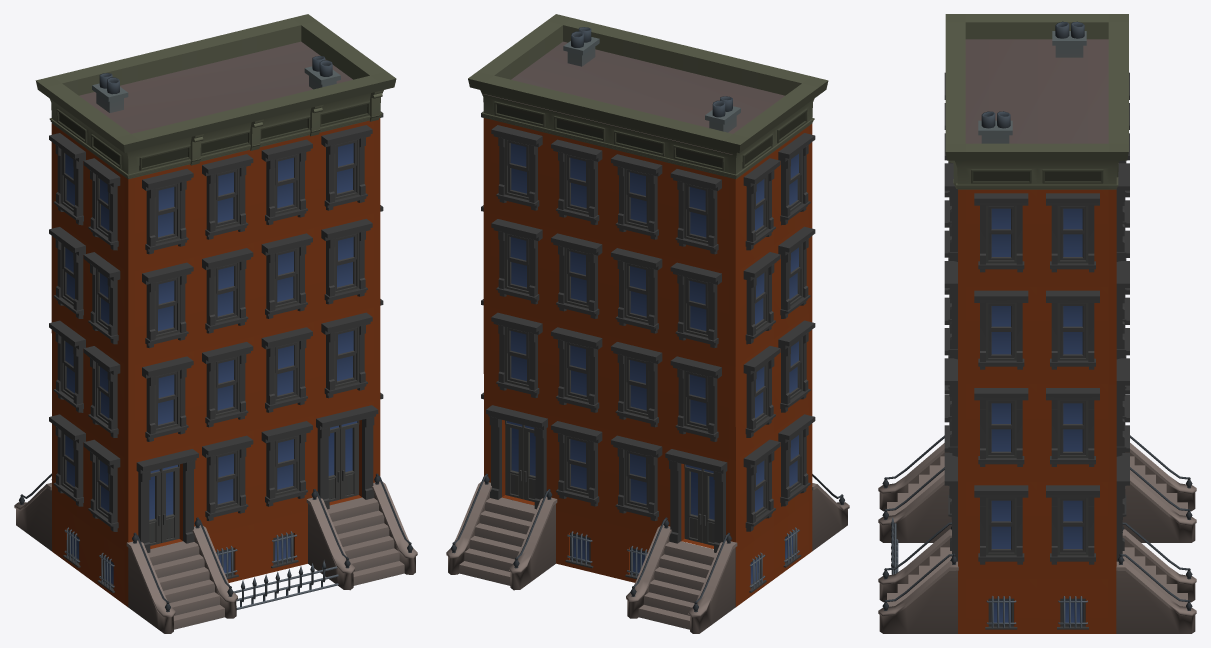
Rendered from NewYork_OPT.fbx.
The picture shows the model from 3 angles, left to right: view 1: azimuth 30°, elevation 25°; view 2: azimuth 150°, elevation 25°; view 3: azimuth 270°, elevation 25°; orthographic projection. The views are drawn at different scales.
Visible parts, largest first — view 1: Plane.3625, Plane.3649, Plane.3648, Plane.3653, Plane.3654, Plane.3670, Plane.3618, Plane.3619, Plane.3671, Plane.3697, Plane.3696, Plane.3617 (+32 smaller); view 2: Plane.3625, Plane.3665, Plane.3648, Plane.3664, Plane.3663, Plane.3678, Plane.3638, Plane.3646, Plane.3703, Plane.3704, Plane.3677, Plane.3680 (+29 smaller); view 3: Plane.3625, Plane.3648, Plane.3661, Plane.3631, Plane.3656, Plane.3674, Plane.3700, Plane.3630, Plane.3655, Plane.3673, Plane.3699, Plane.3663 (+21 smaller).
Part boxes in pixels (box(x1,y1,x2,y2)): Plane.3625: box(45, 18, 386, 175); Plane.3649: box(134, 401, 378, 552); Plane.3648: box(79, 41, 352, 133); Plane.3653: box(126, 517, 237, 633); Plane.3654: box(306, 473, 417, 590); Plane.3670: box(194, 242, 254, 350); Plane.3618: box(194, 336, 254, 444); Plane.3619: box(134, 351, 194, 458); Plane.3671: box(134, 257, 194, 365); Plane.3697: box(134, 164, 194, 271); Plane.3696: box(194, 150, 254, 256); Plane.3617: box(254, 321, 313, 429); Plane.3625: box(478, 18, 818, 177); Plane.3665: box(486, 401, 729, 552); Plane.3648: box(483, 41, 784, 154); Plane.3664: box(626, 517, 737, 633); Plane.3663: box(446, 473, 557, 590); Plane.3678: box(609, 242, 669, 350); Plane.3638: box(609, 336, 669, 444); Plane.3646: box(669, 351, 729, 458); Plane.3703: box(669, 163, 729, 271); Plane.3704: box(609, 148, 669, 256); Plane.3677: box(669, 257, 729, 364); Plane.3680: box(490, 213, 549, 321); Plane.3625: box(945, 14, 1128, 189); Plane.3648: box(965, 39, 1118, 163); Plane.3661: box(965, 579, 1108, 633); Plane.3631: box(965, 384, 1037, 481); Plane.3656: box(965, 481, 1037, 578); Plane.3674: box(965, 286, 1037, 383); Plane.3700: box(965, 189, 1037, 286); Plane.3630: box(1037, 384, 1108, 481); Plane.3655: box(1037, 481, 1108, 578); Plane.3673: box(1037, 286, 1108, 383); Plane.3699: box(1037, 189, 1108, 286); Plane.3663: box(1116, 522, 1196, 633).
Bounding box in the file's own units: 916 × 1542 × 889.
1 material, 1 textured.
